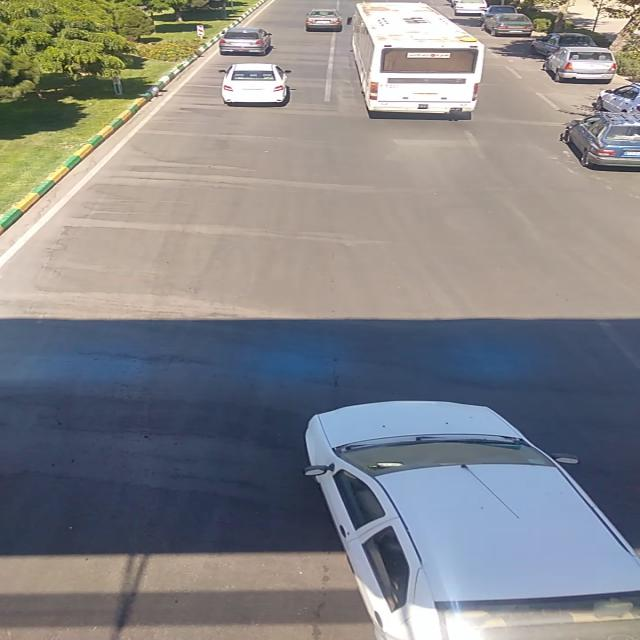bus: (347, 2, 488, 118)
car: (300, 403, 638, 639), (564, 110, 639, 168), (214, 64, 294, 105), (542, 48, 614, 80), (216, 28, 275, 54), (487, 14, 534, 38), (301, 7, 344, 29)
